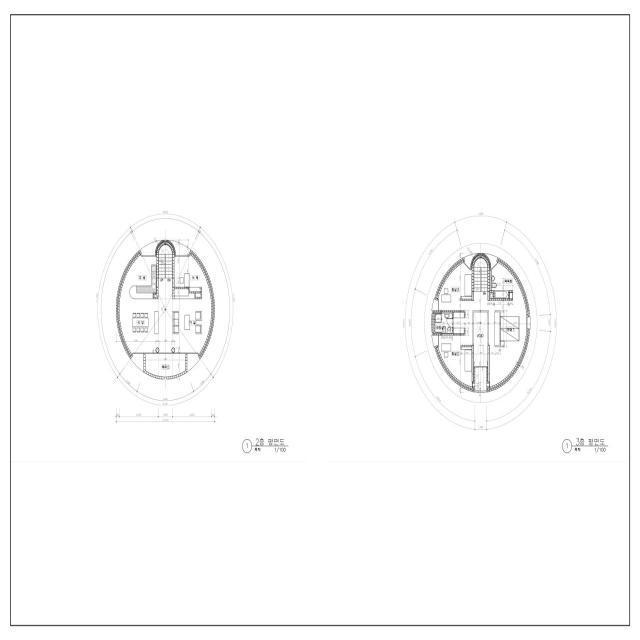space_balconi: (145, 354, 185, 376)
space_bedroom: (490, 300, 527, 387), (438, 335, 473, 387), (438, 262, 472, 310)
space_kitchen: (120, 255, 158, 354)
space_living_room: (158, 278, 211, 354)
space_other: (461, 291, 499, 347), (174, 255, 211, 299), (474, 312, 488, 366), (490, 292, 493, 299), (196, 293, 201, 297), (154, 295, 157, 297)
space_staircase: (158, 245, 172, 278), (474, 258, 488, 291)
space_toilet: (490, 262, 524, 301), (435, 312, 452, 333), (453, 312, 464, 334)
